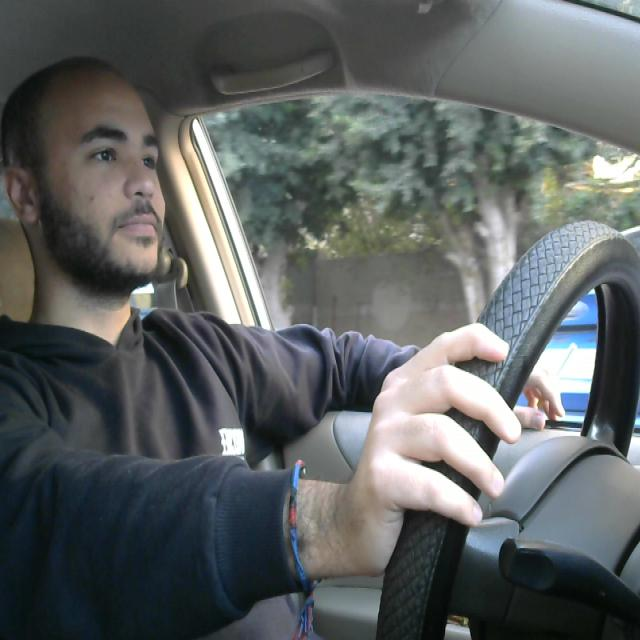smoking: (525, 340, 583, 432)
